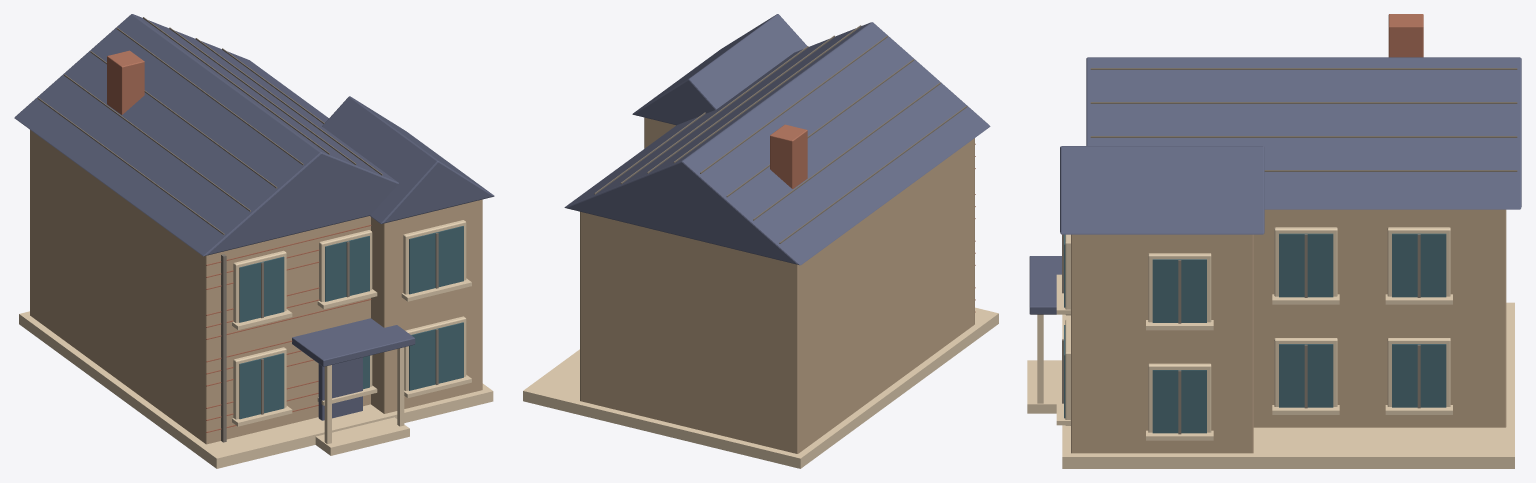
The model's file is detached-house-realistic.glb.
3 renders of one model, left to right at view 1: azimuth 30°, elevation 25°; view 2: azimuth 150°, elevation 25°; view 3: azimuth 270°, elevation 25°, orthographic. The views are drawn at different scales.
Parts seen in each view (by area): view 1: detached-house-realistic; view 2: detached-house-realistic; view 3: detached-house-realistic.
Boxes of the visible parts, <box> form: detached-house-realistic: <box>14,14,494,468</box>; detached-house-realistic: <box>523,14,998,468</box>; detached-house-realistic: <box>1027,14,1521,468</box>.
Size of the model in its own units: 8.6 by 8.3 by 11.35.
